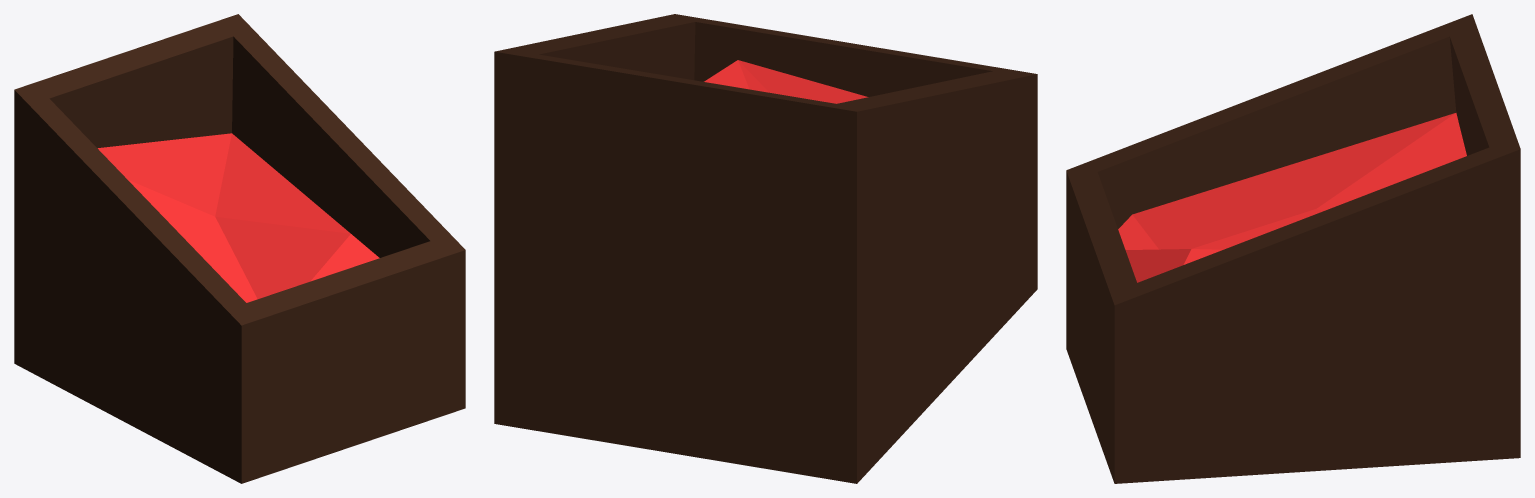
Rendered from Fruit Stand 2.fbx.
3 renders of one model, left to right at view 1: azimuth 30°, elevation 25°; view 2: azimuth 150°, elevation 25°; view 3: azimuth 270°, elevation 25°, orthographic. The views are drawn at different scales.
Parts seen in each view (by area): view 1: Box002; view 2: Box002; view 3: Box002.
Boxes of the visible parts, bbox=[...] form: Box002: bbox=[14, 14, 465, 483]; Box002: bbox=[494, 14, 1037, 483]; Box002: bbox=[1066, 14, 1520, 483].
Size of the model in its own units: 11.9 by 10.64 by 14.19.
